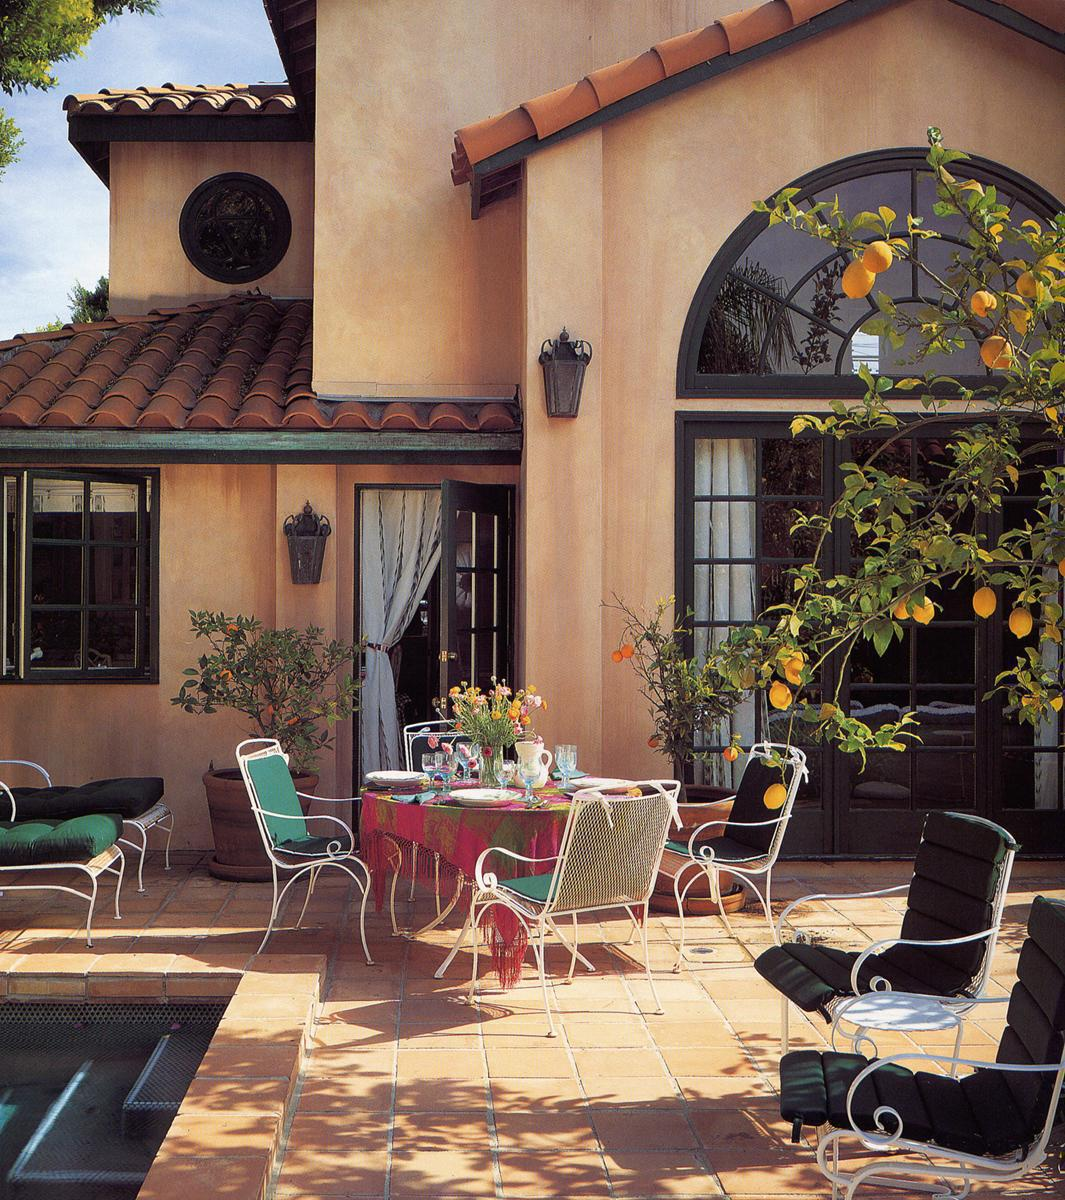Matera: (178, 595, 329, 868)
Puerta: (692, 415, 1050, 850), (352, 490, 505, 705)
Ventana: (7, 470, 145, 675)
